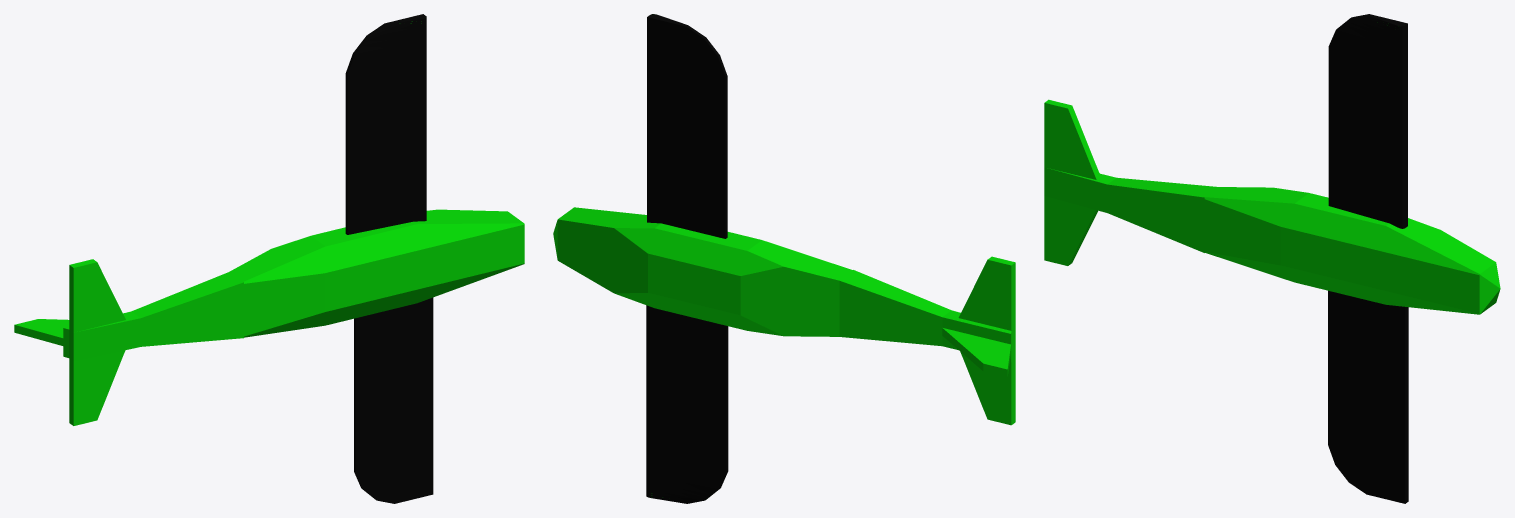
Rendered from plane_child.obj.
The picture shows the model from 3 angles, left to right: view 1: azimuth 30°, elevation 25°; view 2: azimuth 150°, elevation 25°; view 3: azimuth 330°, elevation 25°; orthographic projection.
Parts seen in each view (by area): view 1: Fuselage, LWing.001_LWing, LWing; view 2: Fuselage, LWing.001_LWing, LWing; view 3: Fuselage, LWing.001_LWing, LWing.
Boxes of the visible parts, box(x1,y1,x2,y2) form: Fuselage: box(14, 209, 524, 425); LWing.001_LWing: box(345, 14, 426, 234); LWing: box(354, 297, 433, 503); Fuselage: box(553, 207, 1015, 425); LWing.001_LWing: box(647, 14, 727, 238); LWing: box(646, 305, 728, 503); Fuselage: box(1044, 99, 1500, 314); LWing.001_LWing: box(1328, 14, 1407, 228); LWing: box(1328, 290, 1408, 503).
Bounding box in the file's own units: 9.55 × 9.07 × 1.41.
Materials: 1 (1 with a texture image).
